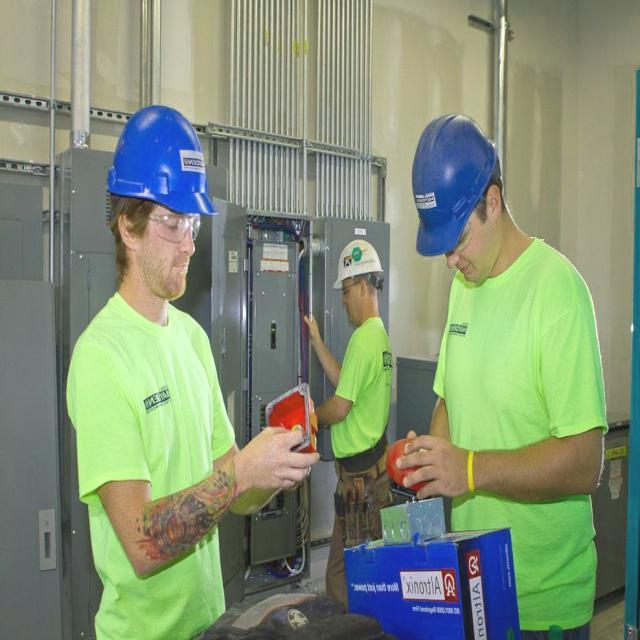face_nomask: (139, 204, 206, 299), (447, 206, 502, 291), (336, 273, 369, 332)
glasses: (150, 204, 208, 250)
hand_noglove: (240, 420, 317, 503), (396, 424, 474, 500), (298, 310, 318, 346)
head_helmet: (412, 116, 483, 256), (111, 111, 215, 197), (334, 237, 378, 278)
person: (93, 103, 220, 632), (405, 113, 578, 498), (325, 234, 391, 524)
